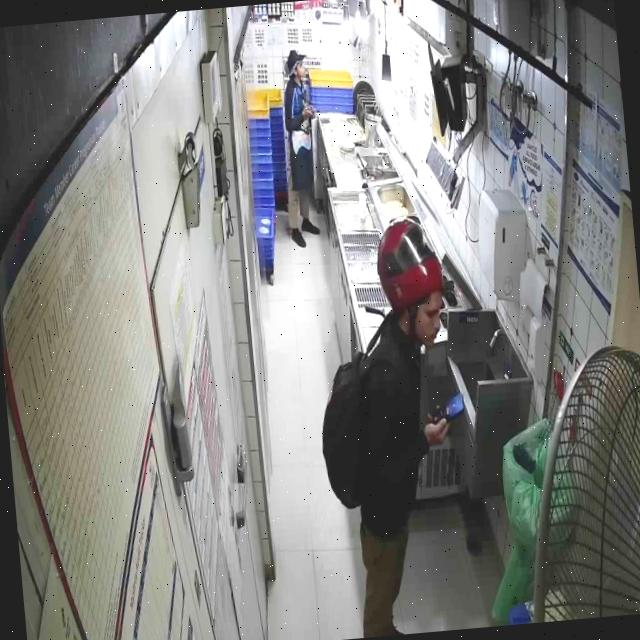helmet: (376, 216, 442, 309)
no_helmet: (284, 48, 307, 80)
